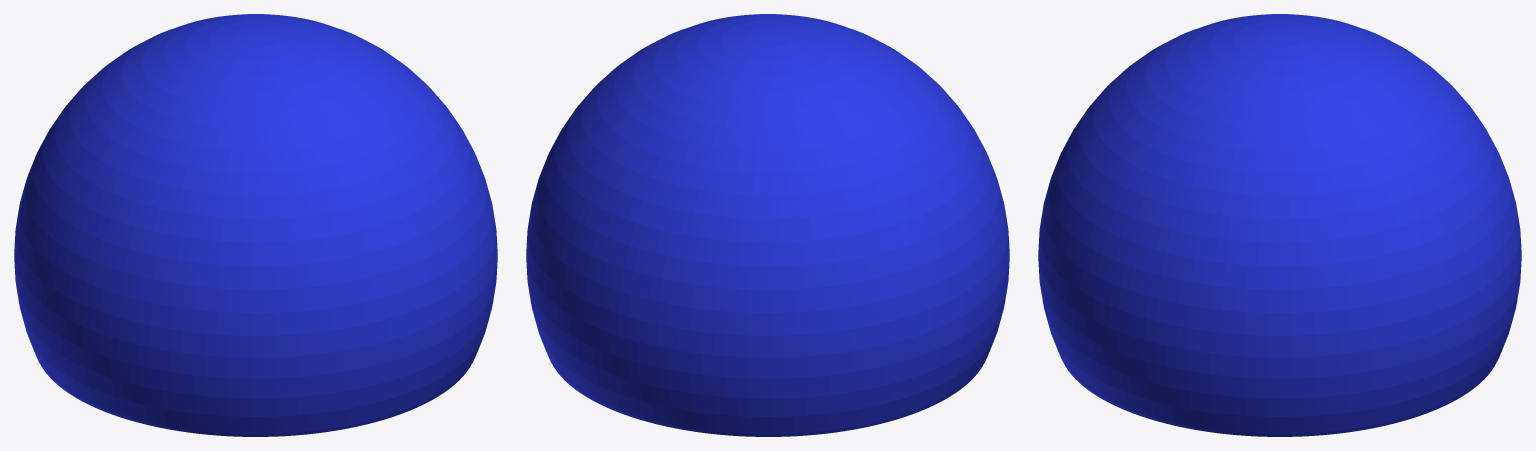
Rendered from Striker3.glb.
3 renders of one model, left to right at view 1: azimuth 30°, elevation 25°; view 2: azimuth 150°, elevation 25°; view 3: azimuth 270°, elevation 25°, orthographic.
Parts seen in each view (by area): view 1: Sphere; view 2: Sphere; view 3: Sphere.
Boxes of the visible parts, x1,y1,x2,y2 form: Sphere: [14, 14, 497, 436]; Sphere: [526, 14, 1009, 436]; Sphere: [1038, 14, 1521, 436].
Size of the model in its own units: 2.04 by 1.43 by 2.04.
